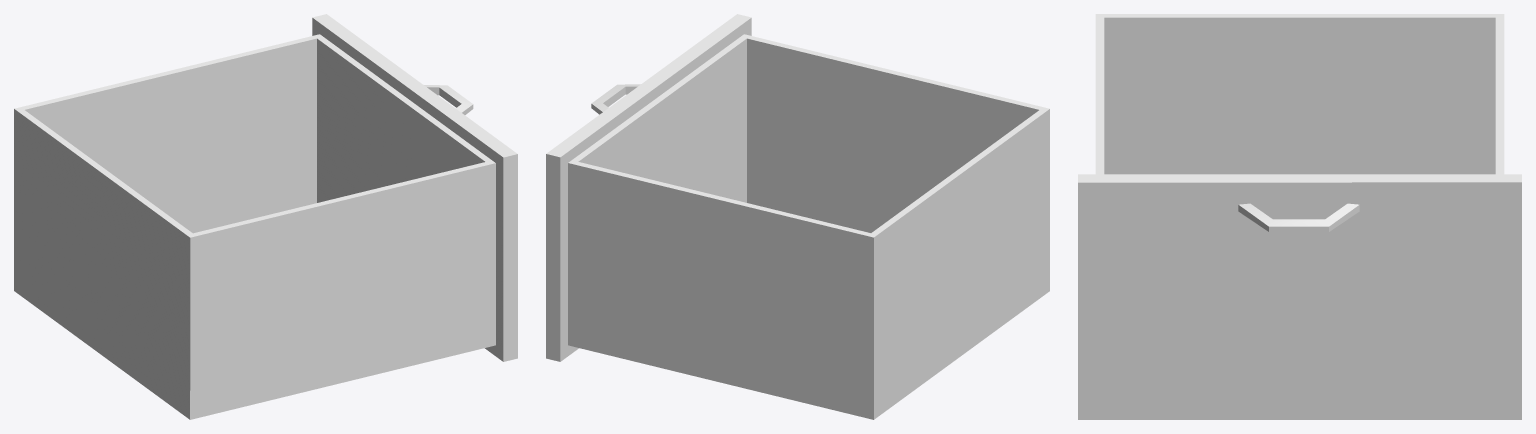
Rendered from Drawer_63743cc0.obj.
3 views of the same model, side by side, from view 1: azimuth 30°, elevation 25°; view 2: azimuth 150°, elevation 25°; view 3: azimuth 270°, elevation 25° (orthographic). The views are drawn at different scales.
Parts seen in each view (by area): view 1: FP421:Door_01_25c83fbe; view 2: FP421:Door_01_25c83fbe; view 3: FP421:Door_01_25c83fbe.
Part boxes in pixels (bbox=[...]): FP421:Door_01_25c83fbe: bbox=[14, 14, 517, 419]; FP421:Door_01_25c83fbe: bbox=[546, 14, 1049, 419]; FP421:Door_01_25c83fbe: bbox=[1078, 14, 1521, 419].
Size of the model in its own units: 0.5483 by 0.2996 by 0.5075.
